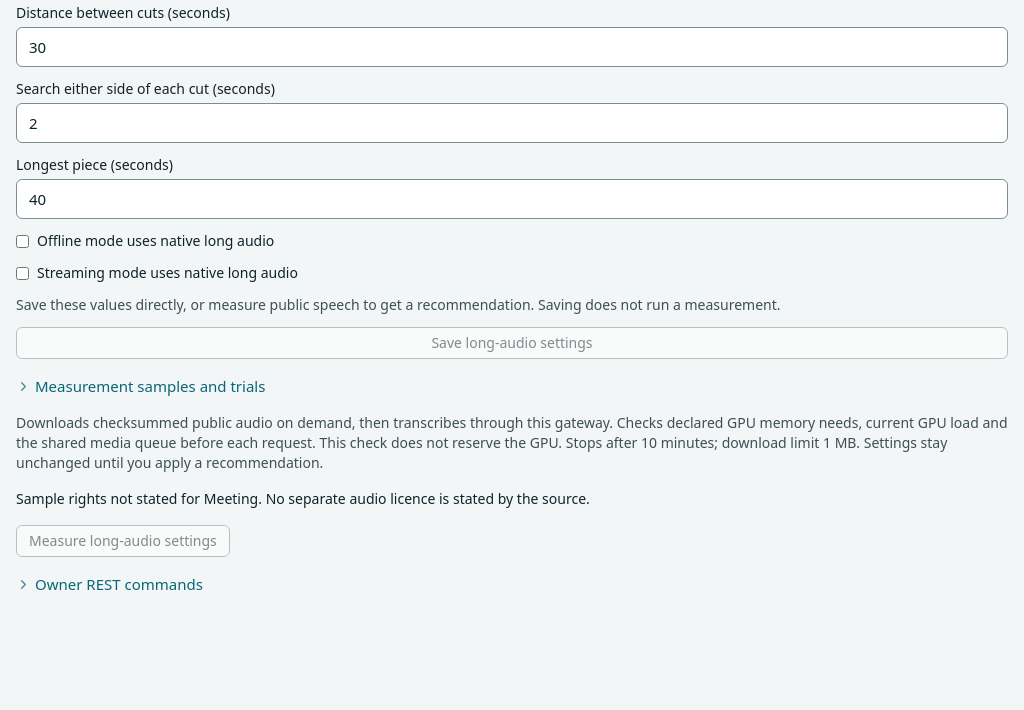
it: Long-audio operator controls › explains when fewer than two configured trial lengths fit the current limit
Click the heading "Measurement samples and trials" at (150, 386), box x1=35 y1=376 x2=265 y2=396
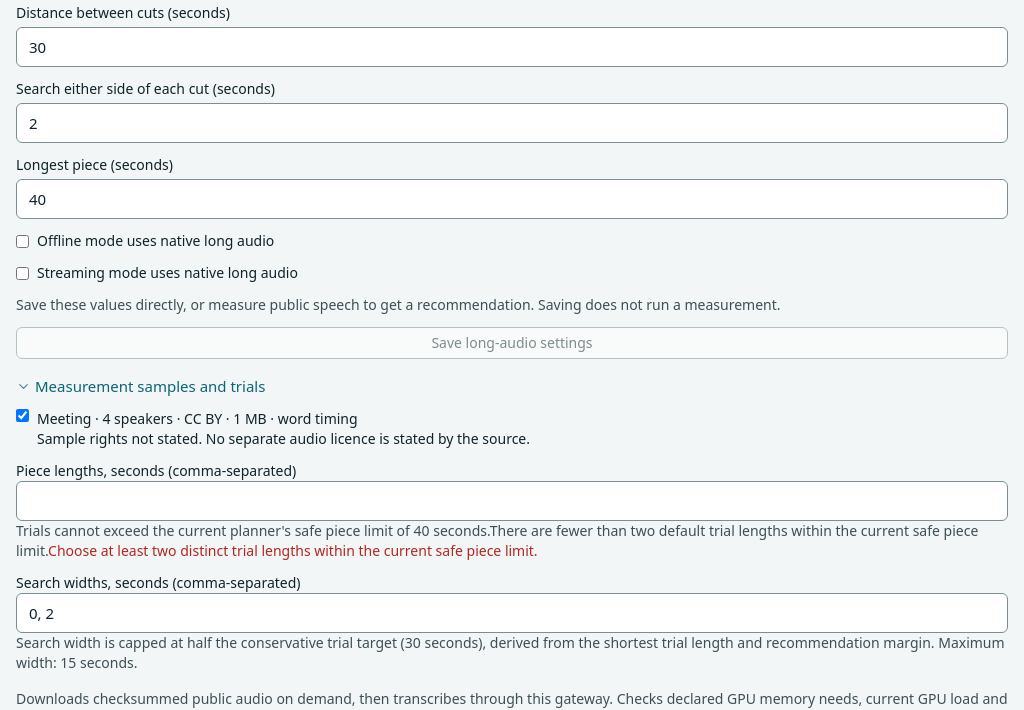
Expected: the text "fewer than two default trial lengths within" is shown, x1=16 y1=521 x2=978 y2=560
Type "20, 30" into the field labelled "Piece lengths, seconds (comma-separated)" at (512, 501), box x1=16 y1=481 x2=1008 y2=521
(page scrolled)
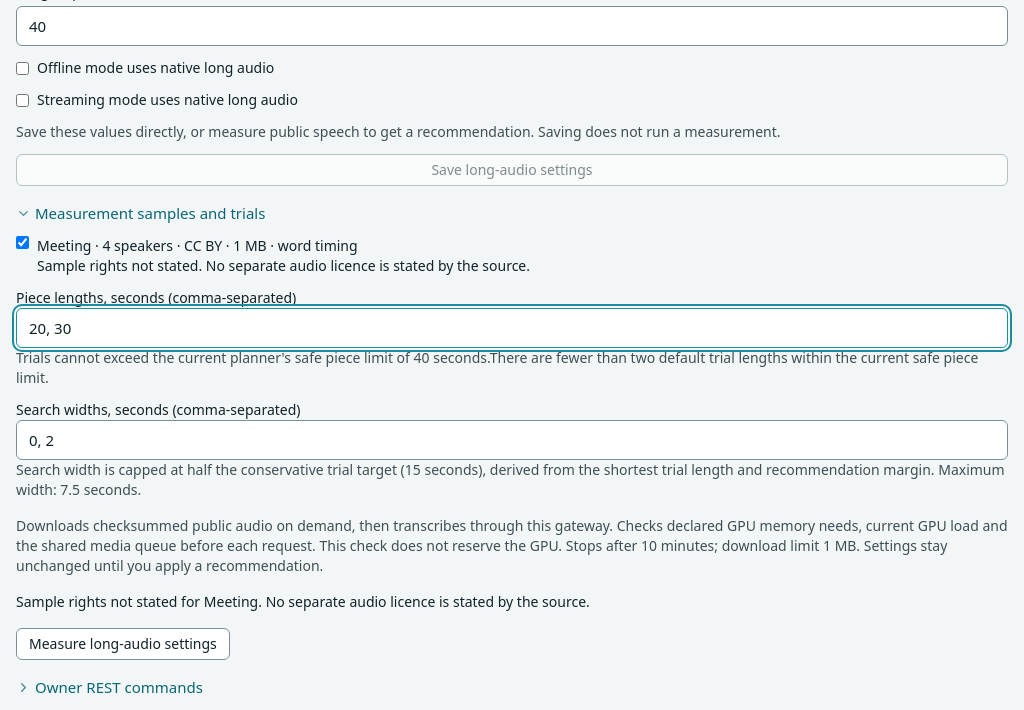
Expected: the button "Measure long-audio settings" is enabled, x1=16 y1=628 x2=230 y2=660
